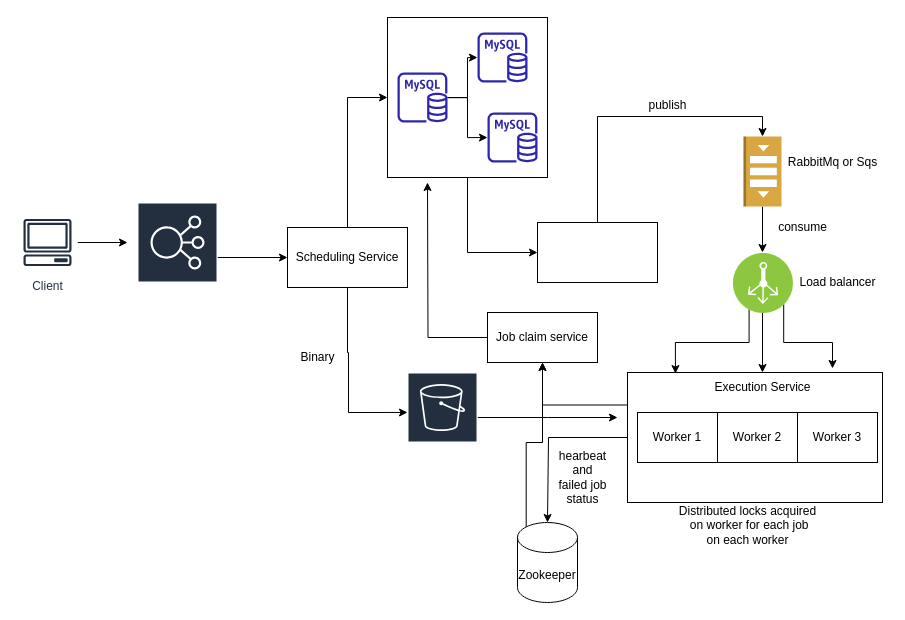
Some shapes in this 905 by 620 pixel diagram are drawn without their labels. Here are the shapes that lost their labels. From the top down, the centre of each, then its label:
At (177,257): "Elastic Load Balancing".
At (597,252): "Enquing Service".
At (442,417): "Amazon S3".
